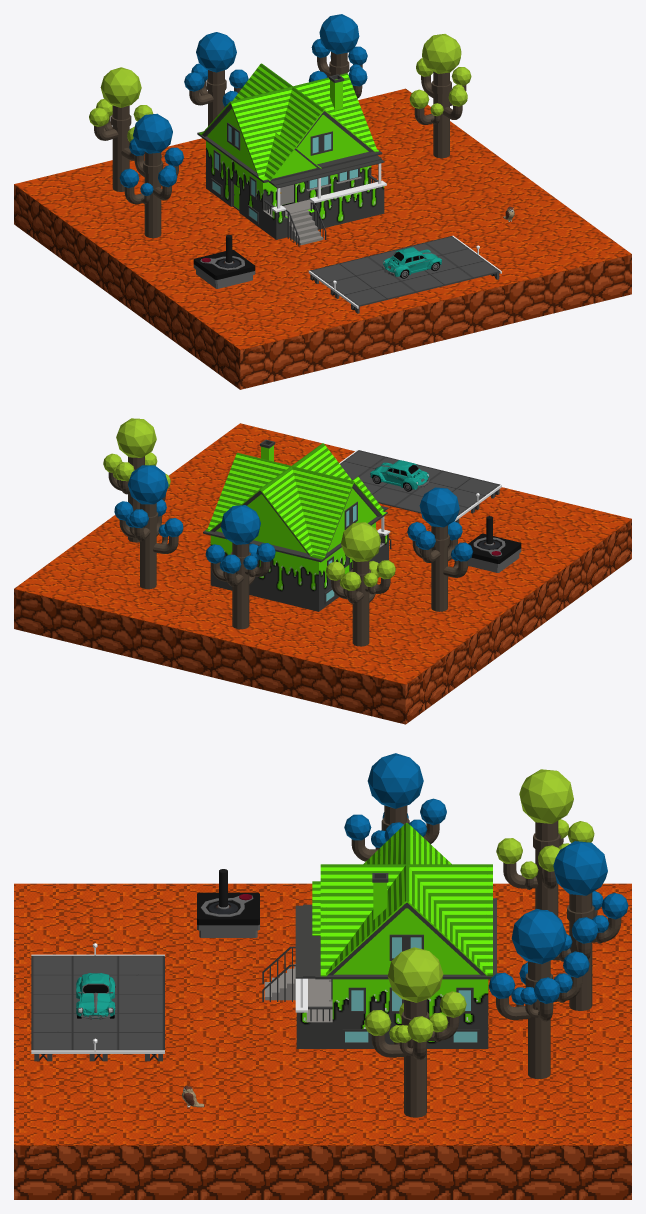
The picture shows the model from 3 angles, top to bottom: view 1: azimuth 30°, elevation 25°; view 2: azimuth 150°, elevation 25°; view 3: azimuth 270°, elevation 25°; orthographic projection. The views are drawn at different scales.
Visible parts, largest first — view 1: Cube.001, Cube.754, OBJRANDOM_JOYSTICK, VEHICLES_VOLKSWAGEN; view 2: Cube.001, Cube.754, OBJRANDOM_JOYSTICK, VEHICLES_VOLKSWAGEN; view 3: Cube.001, Cube.754, OBJRANDOM_JOYSTICK, VEHICLES_VOLKSWAGEN.
Boxes of the visible parts, left/top/right/bottom form: Cube.001: left=14, top=14, right=631, bottom=389; Cube.754: left=197, top=63, right=386, bottom=246; OBJRANDOM_JOYSTICK: left=193, top=234, right=255, bottom=288; VEHICLES_VOLKSWAGEN: left=382, top=247, right=442, bottom=278; Cube.001: left=14, top=418, right=631, bottom=724; Cube.754: left=203, top=439, right=391, bottom=611; OBJRANDOM_JOYSTICK: left=468, top=516, right=521, bottom=572; VEHICLES_VOLKSWAGEN: left=370, top=460, right=429, bottom=491; Cube.001: left=14, top=753, right=631, bottom=1199; Cube.754: left=262, top=823, right=496, bottom=1048; OBJRANDOM_JOYSTICK: left=197, top=869, right=259, bottom=937; VEHICLES_VOLKSWAGEN: left=76, top=973, right=115, bottom=1019.
Size of the model in its own units: 4000 by 1667 by 4000.
36 materials, 5 textured.
